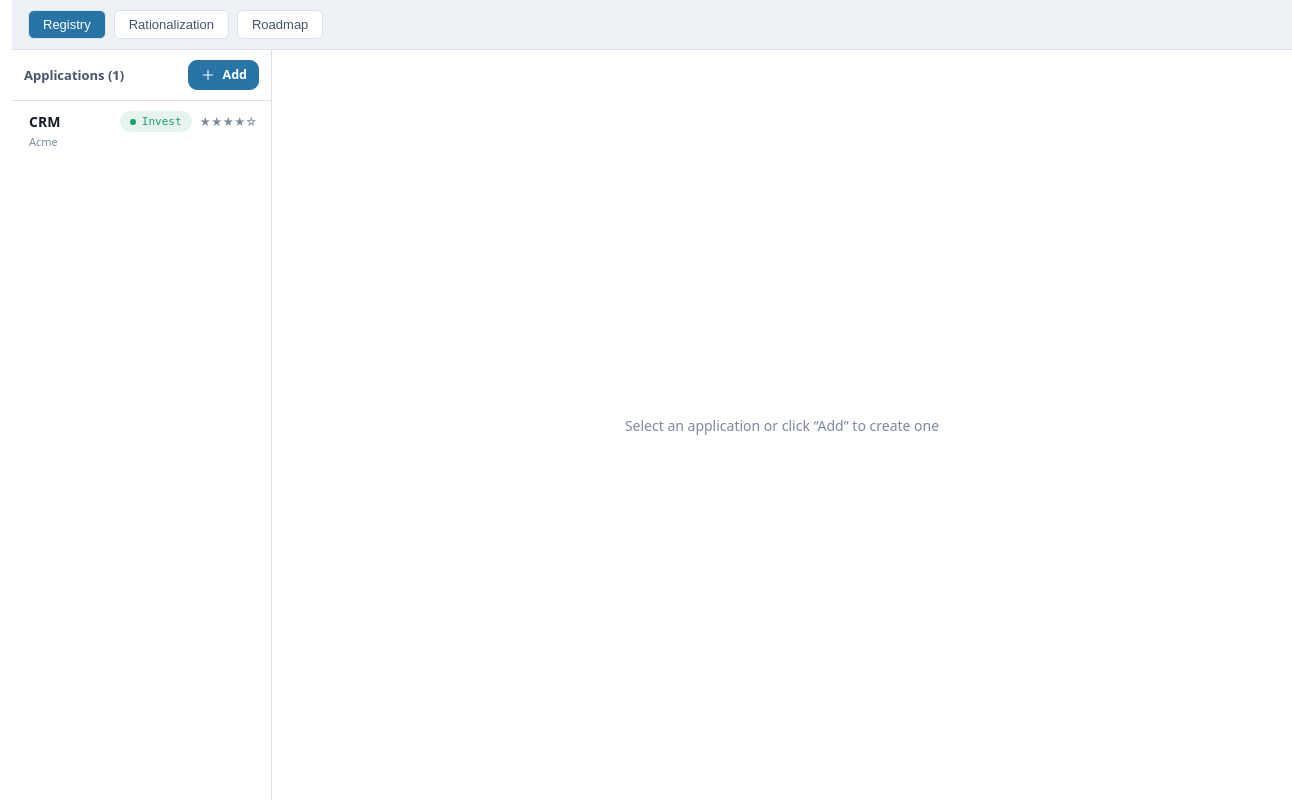
Test case: ApplicationPage › lists applications and opens the create form
The image size is (1292, 800).
Expected: the text "CRM" is shown, top-left (29, 112), bottom-right (60, 131)
Click the button "Add" at (223, 75), box top-left (188, 60), bottom-right (259, 90)
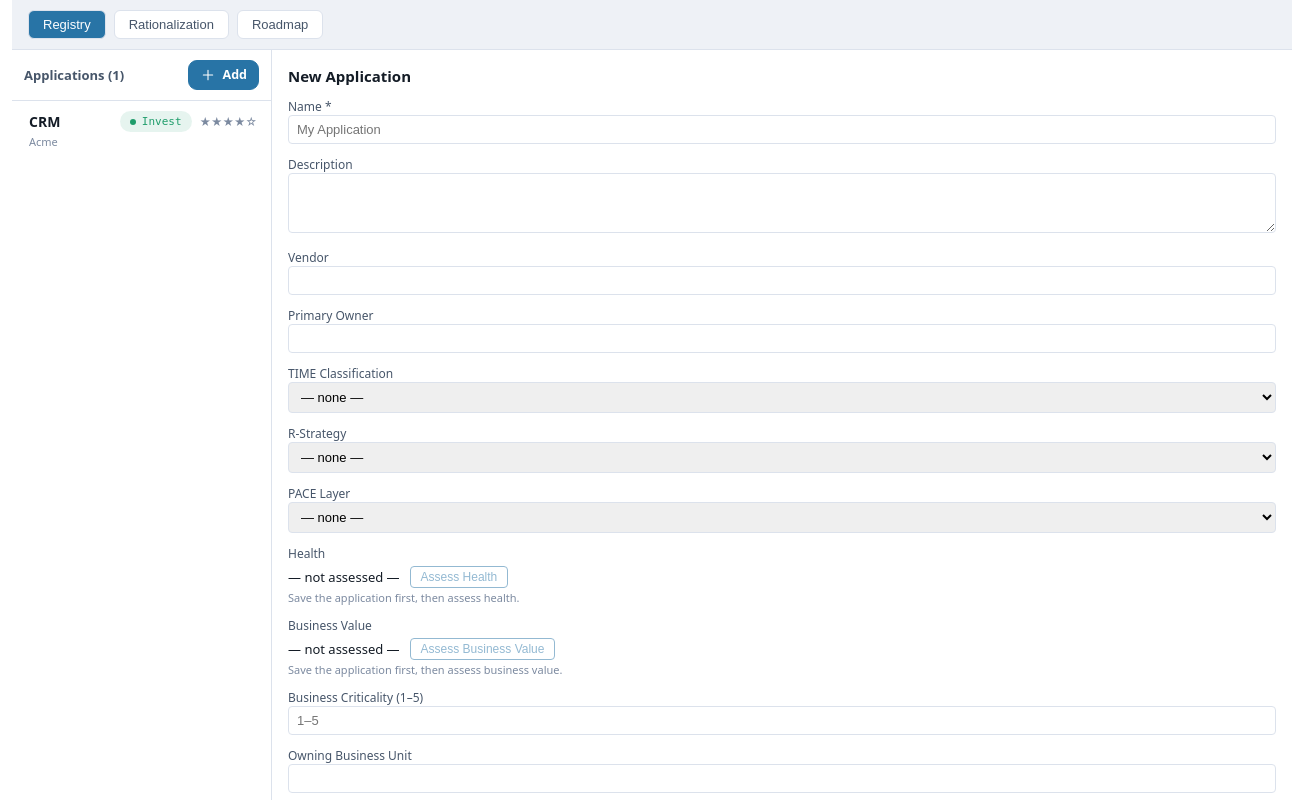
Expected: the heading "New Application" is shown, top-left (288, 66), bottom-right (411, 86)
